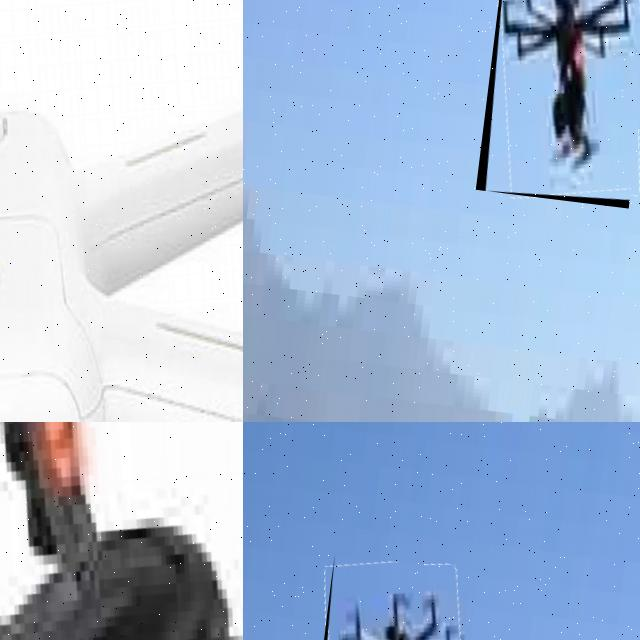0: (475, 0, 640, 208), (305, 553, 479, 640)
drone: (0, 0, 243, 422), (0, 422, 243, 640)
